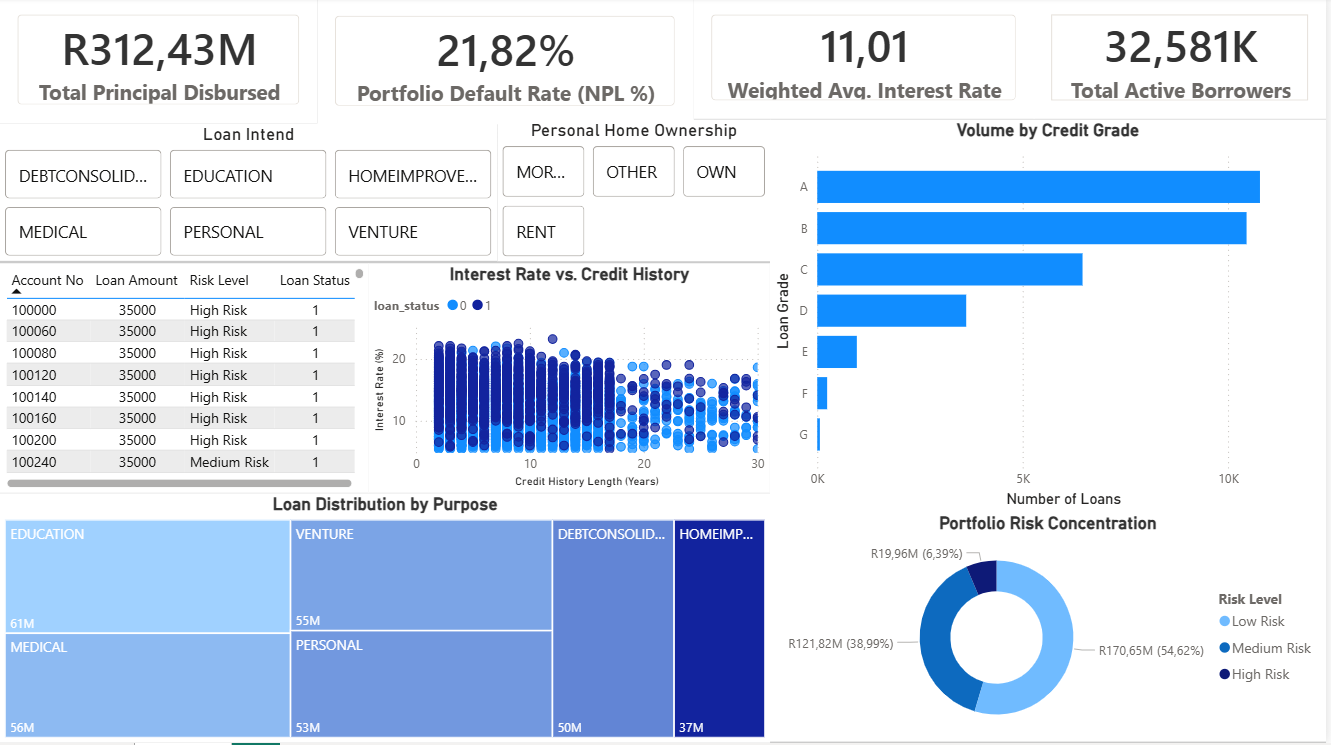

The page's visual inventory and layout, read from the dashboard file:
{"tool":"powerbi","page":{"name":"Page 2","canvas":[1280,720],"ordinal":0},"visuals":[{"type":"cardVisual","fields":{"Data":["credit_risk_dataset.Total_Lent"]},"box":[0,0,306.7,121.9],"z":0},{"type":"cardVisual","fields":{"Data":["Count(credit_risk_dataset.account_no)"]},"box":[998.2,0,282.1,117.8],"z":1000},{"type":"cardVisual","fields":{"Data":["Avg(credit_risk_dataset.loan_int_rate)"]},"box":[669.6,0,328.6,117.8],"z":2000},{"type":"cardVisual","fields":{"Data":["credit_risk_dataset.Unpayed_Rate"]},"box":[306.7,1.4,362.9,121.9],"z":3000},{"type":"treemap","title":"Loan Distribution by Purpose","fields":{"Group":["credit_risk_dataset.loan_intent"],"Values":["Sum(credit_risk_dataset.loan_amnt)"]},"box":[0,479.2,743.5,241],"z":4000},{"type":"clusteredBarChart","title":"Volume by Credit Grade","fields":{"Category":["credit_risk_dataset.loan_grade"],"Y":["CountNonNull(credit_risk_dataset.loan_grade)"]},"box":[743.7,118.3,536.6,379.2],"z":5000},{"type":"donutChart","title":"Portfolio Risk Concentration","fields":{"Category":["credit_risk_dataset.Risk Level"],"Y":["credit_risk_dataset.Total_Lent"]},"box":[743.7,497.6,536.6,221.9],"z":6000},{"type":"scatterChart","title":"Interest Rate vs. Credit History","fields":{"X":["Avg(credit_risk_dataset.cb_person_cred_hist_length)"],"Series":["credit_risk_dataset.loan_status"],"Y":["Avg(credit_risk_dataset.loan_int_rate)"],"Category":["credit_risk_dataset.account_no"]},"box":[356,257.4,387.5,221.8],"z":7000},{"type":"advancedSlicerVisual","title":"Loan Intend","fields":{"Values":["credit_risk_dataset.loan_intent"]},"box":[0,122.4,480.1,133.1],"z":8000},{"type":"advancedSlicerVisual","title":"Personal Home Ownership","fields":{"Values":["credit_risk_dataset.person_home_ownership"]},"box":[480.1,118.3,263.6,137.2],"z":9000},{"type":"tableEx","fields":{"Values":["credit_risk_dataset.account_no","credit_risk_dataset.loan_amnt","credit_risk_dataset.Risk Level","credit_risk_dataset.loan_status"]},"box":[0,256.9,356.4,221.9],"z":10000}]}

Visuals, with their boxes in screenshot pixels (x1, y1, x2, y2), scaled from the page's 1280x720 canvas onto the 1331x745 screenshot:
cardVisual - credit_risk_dataset.Total_Lent: 0:0:319:126
cardVisual - Count(credit_risk_dataset.account_no): 1038:0:1330:122
cardVisual - Avg(credit_risk_dataset.loan_int_rate): 696:0:1038:122
cardVisual - credit_risk_dataset.Unpayed_Rate: 319:1:696:128
"Loan Distribution by Purpose" treemap: 0:496:773:744
"Volume by Credit Grade" clusteredBarChart: 773:122:1330:515
"Portfolio Risk Concentration" donutChart: 773:515:1330:744
"Interest Rate vs. Credit History" scatterChart: 370:266:773:496
"Loan Intend" advancedSlicerVisual: 0:127:499:264
"Personal Home Ownership" advancedSlicerVisual: 499:122:773:264
tableEx - credit_risk_dataset.account_no x credit_risk_dataset.loan_amnt: 0:266:371:495
